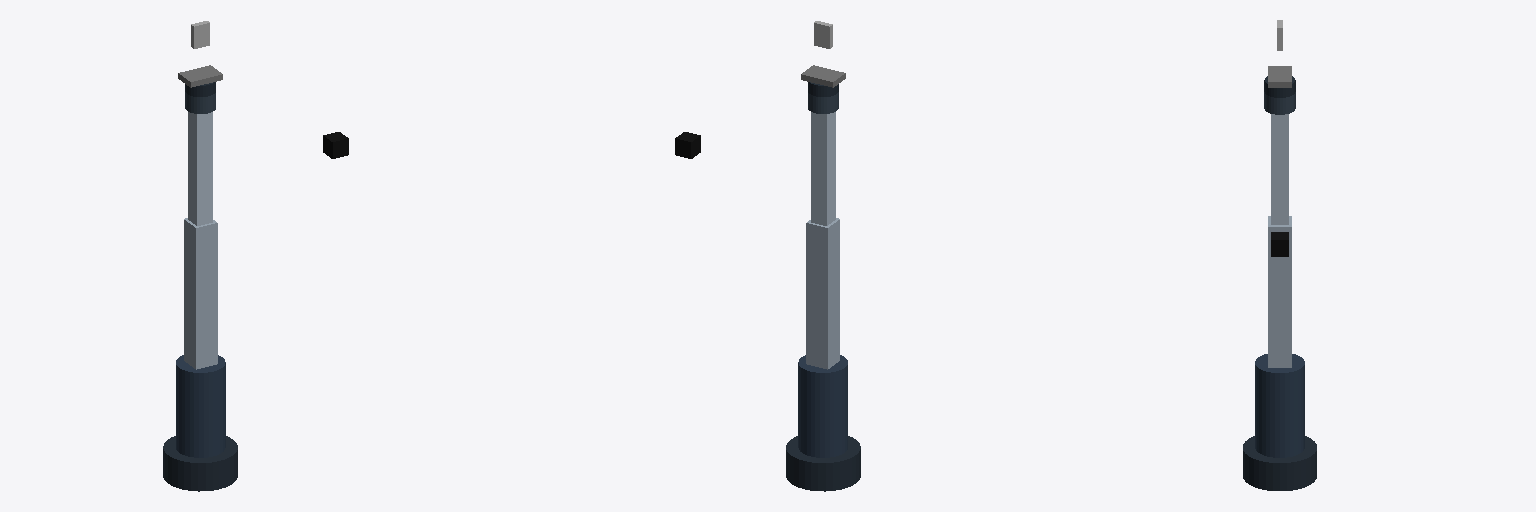
robot.urdf — robot_arm:
<?xml version="1.0" ?>
<!-- =================================================================================== -->
<!-- |    This document was autogenerated by xacro from /home/tienle/ARMROBOT/src/robot_arm/urdf/robot_arm.urdf.xacro | -->
<!-- |    EDITING THIS FILE BY HAND IS NOT RECOMMENDED                                 | -->
<!-- =================================================================================== -->
<robot name="robot_arm">
  <!-- ===================== LINKS & JOINTS ===================== -->
  <!-- World link (for fixed base) -->
  <link name="world"/>
  <!-- Base Link -->
  <joint name="world_to_base" type="fixed">
    <parent link="world"/>
    <child link="base_link"/>
    <origin rpy="0 0 0" xyz="0 0 0.025"/>
  </joint>
  <link name="base_link">
    <inertial>
      <mass value="2.0"/>
      <inertia ixx="0.0022166666666666663" ixy="0" ixz="0" iyy="0.0022166666666666663" iyz="0" izz="0.0036"/>
    </inertial>
    <visual>
      <geometry>
        <cylinder length="0.05" radius="0.06"/>
      </geometry>
      <material name="dark_slate">
        <color rgba="0.18 0.22 0.26 1.0"/>
      </material>
    </visual>
    <collision>
      <geometry>
        <cylinder length="0.05" radius="0.06"/>
      </geometry>
    </collision>
  </link>
  <!-- Link1 - Turret (rotates around Z) -->
  <joint name="joint1" type="revolute">
    <parent link="base_link"/>
    <child link="link1"/>
    <origin rpy="0 0 0" xyz="0 0 0.025"/>
    <axis xyz="0 0 1"/>
    <limit effort="50.0" lower="-3.141592653589793" upper="3.141592653589793" velocity="2.0"/>
    <dynamics damping="0.5" friction="0.1"/>
  </joint>
  <link name="link1">
    <inertial>
      <mass value="1.0"/>
      <inertia ixx="0.0022749999999999997" ixy="0" ixz="0" iyy="0.0022749999999999997" iyz="0" izz="0.0008"/>
    </inertial>
    <visual>
      <origin rpy="0 0 0" xyz="0 0 0.075"/>
      <geometry>
        <cylinder length="0.15" radius="0.04"/>
      </geometry>
      <material name="slate_grey">
        <color rgba="0.22 0.28 0.35 1.0"/>
      </material>
    </visual>
    <collision>
      <origin rpy="0 0 0" xyz="0 0 0.075"/>
      <geometry>
        <cylinder length="0.15" radius="0.04"/>
      </geometry>
    </collision>
  </link>
  <!-- Link2 - Upper arm (rotates around Y) -->
  <joint name="joint2" type="revolute">
    <parent link="link1"/>
    <child link="link2"/>
    <origin rpy="0 0 0" xyz="0 0 0.15"/>
    <axis xyz="0 1 0"/>
    <limit effort="50.0" lower="-2.5" upper="2.5" velocity="2.0"/>
    <dynamics damping="0.5" friction="0.1"/>
  </joint>
  <link name="link2">
    <inertial>
      <mass value="0.8"/>
      <inertia ixx="0.004273333333333334" ixy="0" ixz="0" iyy="0.004273333333333334" iyz="0" izz="0.00021333333333333333"/>
    </inertial>
    <visual>
      <origin rpy="0 0 0" xyz="0 0 0.125"/>
      <geometry>
        <box size="0.04 0.04 0.25"/>
      </geometry>
      <material name="metallic_silver">
        <color rgba="0.65 0.70 0.75 1.0"/>
      </material>
    </visual>
    <collision>
      <origin rpy="0 0 0" xyz="0 0 0.125"/>
      <geometry>
        <box size="0.04 0.04 0.25"/>
      </geometry>
    </collision>
  </link>
  <!-- Link3 - Forearm (rotates around Y) -->
  <joint name="joint3" type="revolute">
    <parent link="link2"/>
    <child link="link3"/>
    <origin rpy="0 0 0" xyz="0 0 0.25"/>
    <axis xyz="0 1 0"/>
    <limit effort="50.0" lower="-2.5" upper="2.5" velocity="2.0"/>
    <dynamics damping="0.3" friction="0.1"/>
  </joint>
  <link name="link3">
    <inertial>
      <mass value="0.5"/>
      <inertia ixx="0.0017041666666666668" ixy="0" ixz="0" iyy="0.0017041666666666668" iyz="0" izz="7.5e-05"/>
    </inertial>
    <visual>
      <origin rpy="0 0 0" xyz="0 0 0.1"/>
      <geometry>
        <box size="0.03 0.03 0.2"/>
      </geometry>
      <material name="aluminum">
        <color rgba="0.70 0.75 0.80 1.0"/>
      </material>
    </visual>
    <collision>
      <origin rpy="0 0 0" xyz="0 0 0.1"/>
      <geometry>
        <box size="0.03 0.03 0.2"/>
      </geometry>
    </collision>
  </link>
  <!-- Link4 - Wrist (4th DOF: rotates around Y for wrist pitch) -->
  <joint name="joint4" type="revolute">
    <parent link="link3"/>
    <child link="link4"/>
    <origin rpy="0 0 0" xyz="0 0 0.2"/>
    <axis xyz="0 1 0"/>
    <limit effort="20.0" lower="-2.2" upper="2.2" velocity="3.0"/>
    <dynamics damping="0.2" friction="0.05"/>
  </joint>
  <link name="link4">
    <inertial>
      <mass value="0.15"/>
      <inertia ixx="3.46875e-05" ixy="0" ixz="0" iyy="3.46875e-05" iyz="0" izz="4.6875e-05"/>
    </inertial>
    <visual>
      <origin rpy="0 0 0" xyz="0 0 0.015"/>
      <geometry>
        <cylinder length="0.03" radius="0.025"/>
      </geometry>
      <material name="wrist_dark">
        <color rgba="0.25 0.30 0.35 1.0"/>
      </material>
    </visual>
    <collision>
      <origin rpy="0 0 0" xyz="0 0 0.015"/>
      <geometry>
        <cylinder length="0.03" radius="0.025"/>
      </geometry>
    </collision>
  </link>
  <joint name="joint5" type="revolute">
    <parent link="link4"/>
    <child link="link5"/>
    <origin rpy="0 0 0" xyz="0 0 0.03"/>
    <axis xyz="0 0 1"/>
    <limit effort="20.0" lower="-1.5707963267948966" upper="1.5707963267948966" velocity="3.0"/>
    <dynamics damping="0.1" friction="0.05"/>
  </joint>
  <link name="link5">
    <inertial>
      <mass value="0.1"/>
      <inertia ixx="1.8958333333333338e-05" ixy="0" ixz="0" iyy="1.8958333333333338e-05" iyz="0" izz="3.125000000000001e-05"/>
    </inertial>
    <visual>
      <origin rpy="0 0 0" xyz="0 0 0.01"/>
      <geometry>
        <cylinder length="0.02" radius="0.025"/>
      </geometry>
      <material name="flange_dark">
        <color rgba="0.18 0.22 0.26 1.0"/>
      </material>
    </visual>
    <collision>
      <origin rpy="0 0 0" xyz="0 0 0.01"/>
      <geometry>
        <cylinder length="0.02" radius="0.025"/>
      </geometry>
    </collision>
  </link>
  <joint name="end_effector_joint" type="fixed">
    <parent link="link5"/>
    <child link="end_effector_link"/>
    <origin rpy="0 0 0" xyz="0 0 0.02"/>
  </joint>
  <link name="end_effector_link"/>
  <!-- ===================== GRIPPER (Franka Hand Modern Parallel-Jaw) ===================== -->
  <!-- Gripper base (sits right at the end of the arm) -->
  <joint name="gripper_base_joint" type="fixed">
    <parent link="end_effector_link"/>
    <child link="gripper_base_link"/>
    <origin rpy="0 0 0" xyz="0 0 0"/>
  </joint>
  <link name="gripper_base_link">
    <inertial>
      <mass value="0.1"/>
      <inertia ixx="0.00015" ixy="0" ixz="0" iyy="5.9999999999999995e-05" iyz="0" izz="0.00015"/>
    </inertial>
    <visual>
      <origin rpy="0 0 0" xyz="0 0 0.005"/>
      <geometry>
        <box size="0.06 0.04 0.01"/>
      </geometry>
      <material name="grey">
        <color rgba="0.5 0.5 0.5 1.0"/>
      </material>
    </visual>
    <collision>
      <origin rpy="0 0 0" xyz="0 0 0.02"/>
      <geometry>
        <box size="0.06 0.12 0.05"/>
      </geometry>
    </collision>
  </link>
  <!-- Left finger (prismatic along Y, opens outward +Y, extends in +Z) -->
  <joint name="gripper_left_joint" type="prismatic">
    <parent link="gripper_base_link"/>
    <child link="finger_left_link"/>
    <origin rpy="0 0 0" xyz="0 0 0.0584"/>
    <axis xyz="0 1 0"/>
    <limit effort="20.0" lower="0.0" upper="0.035" velocity="0.5"/>
    <dynamics damping="0.1"/>
  </joint>
  <link name="finger_left_link">
    <inertial>
      <mass value="0.05"/>
      <inertia ixx="7.6041666666666666e-06" ixy="0" ixz="0" iyy="8.333333333333334e-06" iyz="0" izz="2.6041666666666666e-06"/>
    </inertial>
    <visual>
      <origin rpy="0 0 0" xyz="0 0 0.02"/>
      <geometry>
        <box size="0.03 0.01 0.04"/>
      </geometry>
      <material name="light_grey">
        <color rgba="0.7 0.7 0.7 1.0"/>
      </material>
    </visual>
    <collision>
      <origin rpy="0 0 0" xyz="0 0.0075 0.045"/>
      <geometry>
        <box size="0.018 0.015 0.04"/>
      </geometry>
    </collision>
  </link>
  <!-- Right finger (mimic of left, moves in -Y, extends in +Z) -->
  <joint name="gripper_right_joint" type="prismatic">
    <parent link="gripper_base_link"/>
    <child link="finger_right_link"/>
    <origin rpy="0 0 3.141592653589793" xyz="0 0 0.0584"/>
    <axis xyz="0 1 0"/>
    <limit effort="20.0" lower="0.0" upper="0.035" velocity="0.5"/>
    <mimic joint="gripper_left_joint" multiplier="1" offset="0"/>
    <dynamics damping="0.1"/>
  </joint>
  <link name="finger_right_link">
    <inertial>
      <mass value="0.05"/>
      <inertia ixx="7.6041666666666666e-06" ixy="0" ixz="0" iyy="8.333333333333334e-06" iyz="0" izz="2.6041666666666666e-06"/>
    </inertial>
    <visual>
      <origin rpy="0 0 0" xyz="0 0 0.02"/>
      <geometry>
        <box size="0.03 0.01 0.04"/>
      </geometry>
      <material name="light_grey">
        <color rgba="0.7 0.7 0.7 1.0"/>
      </material>
    </visual>
    <collision>
      <origin rpy="0 0 0" xyz="0 0.0075 0.045"/>
      <geometry>
        <box size="0.018 0.015 0.04"/>
      </geometry>
    </collision>
  </link>
  <!-- Grasp Center (virtual reference frame located at the center of the finger pads) -->
  <joint name="grasp_joint" type="fixed">
    <parent link="end_effector_link"/>
    <child link="grasp_link"/>
    <origin rpy="0 0 0" xyz="0 0 0.1034"/>
  </joint>
  <link name="grasp_link"/>
  <!-- ===================== CAMERA ===================== -->
  <!-- Camera mount (fixed overhead, looking straight down) -->
  <joint name="camera_joint" type="fixed">
    <parent link="base_link"/>
    <child link="camera_link"/>
    <origin rpy="0 1.5707963267948966 0" xyz="0.25 0.0 0.50"/>
  </joint>
  <link name="camera_link">
    <inertial>
      <mass value="0.05"/>
      <inertia ixx="7.499999999999999e-06" ixy="0" ixz="0" iyy="7.499999999999999e-06" iyz="0" izz="7.499999999999999e-06"/>
    </inertial>
    <visual>
      <geometry>
        <box size="0.03 0.03 0.03"/>
      </geometry>
      <material name="black">
        <color rgba="0.1 0.1 0.1 1.0"/>
      </material>
    </visual>
    <collision>
      <geometry>
        <box size="0.03 0.03 0.03"/>
      </geometry>
    </collision>
  </link>
  <!-- Camera optical frame (Z forward, X right, Y down) -->
  <joint name="camera_optical_joint" type="fixed">
    <parent link="camera_link"/>
    <child link="camera_optical_link"/>
    <origin rpy="-1.5707963267948966 0 -1.5707963267948966" xyz="0 0 0"/>
  </joint>
  <link name="camera_optical_link"/>
  <!-- ===================== ros2_control HARDWARE INTERFACE ===================== -->
  <ros2_control name="GazeboSimSystem" type="system">
    <hardware>
      <plugin>gz_ros2_control/GazeboSimSystem</plugin>
    </hardware>
    <!-- Joint 1 - Base rotation -->
    <joint name="joint1">
      <command_interface name="position">
        <param name="min">-3.14159</param>
        <param name="max">3.14159</param>
      </command_interface>
      <state_interface name="position"/>
      <state_interface name="velocity"/>
    </joint>
    <!-- Joint 2 - Shoulder -->
    <joint name="joint2">
      <command_interface name="position">
        <param name="min">-2.5</param>
        <param name="max">2.5</param>
      </command_interface>
      <state_interface name="position"/>
      <state_interface name="velocity"/>
    </joint>
    <!-- Joint 3 - Elbow -->
    <joint name="joint3">
      <command_interface name="position">
        <param name="min">-2.5</param>
        <param name="max">2.5</param>
      </command_interface>
      <state_interface name="position"/>
      <state_interface name="velocity"/>
    </joint>
    <!-- Joint 4 - Wrist Pitch (4th DOF) -->
    <joint name="joint4">
      <command_interface name="position">
        <param name="min">-2.2</param>
        <param name="max">2.2</param>
      </command_interface>
      <state_interface name="position"/>
      <state_interface name="velocity"/>
    </joint>
    <!-- Joint 5 - Wrist Roll (5th DOF) -->
    <joint name="joint5">
      <command_interface name="position">
        <param name="min">-1.5708</param>
        <param name="max">1.5708</param>
      </command_interface>
      <state_interface name="position"/>
      <state_interface name="velocity"/>
    </joint>
    <!-- Gripper - Left finger -->
    <joint name="gripper_left_joint">
      <command_interface name="position">
        <param name="min">0.0</param>
        <param name="max">0.035</param>
      </command_interface>
      <state_interface name="position"/>
      <state_interface name="velocity"/>
    </joint>
    <!-- Gripper - Right finger (mimics left finger in opposite direction) -->
    <joint name="gripper_right_joint">
      <param name="mimic">gripper_left_joint</param>
      <param name="multiplier">1</param>
      <state_interface name="position"/>
      <state_interface name="velocity"/>
    </joint>
  </ros2_control>
  <!-- ===================== GAZEBO PLUGIN: ros2_control ===================== -->
  <gazebo>
    <plugin filename="gz_ros2_control-system" name="gz_ros2_control::GazeboSimROS2ControlPlugin">
      <parameters>/home/tienle/ARMROBOT/install/robot_arm/share/robot_arm/config/controllers_5dof.yaml</parameters>
    </plugin>
  </gazebo>
  <!-- ===================== GAZEBO COLORS (Modern Industrial Robotic Finish) ===================== -->
  <gazebo reference="base_link">
    <material>
      <ambient>0.18 0.22 0.26 1</ambient>
      <diffuse>0.18 0.22 0.26 1</diffuse>
      <specular>0.4 0.4 0.4 1</specular>
    </material>
  </gazebo>
  <gazebo reference="link1">
    <material>
      <ambient>0.22 0.28 0.35 1</ambient>
      <diffuse>0.22 0.28 0.35 1</diffuse>
      <specular>0.3 0.3 0.3 1</specular>
    </material>
  </gazebo>
  <gazebo reference="link2">
    <material>
      <ambient>0.65 0.70 0.75 1</ambient>
      <diffuse>0.65 0.70 0.75 1</diffuse>
      <specular>0.5 0.5 0.5 1</specular>
    </material>
  </gazebo>
  <gazebo reference="link3">
    <material>
      <ambient>0.70 0.75 0.80 1</ambient>
      <diffuse>0.70 0.75 0.80 1</diffuse>
      <specular>0.5 0.5 0.5 1</specular>
    </material>
  </gazebo>
  <!-- Link4 - Wrist Pitch -->
  <gazebo reference="link4">
    <material>
      <ambient>0.25 0.30 0.35 1</ambient>
      <diffuse>0.25 0.30 0.35 1</diffuse>
      <specular>0.3 0.3 0.3 1</specular>
    </material>
  </gazebo>
  <!-- Link5 - Wrist Roll -->
  <gazebo reference="link5">
    <material>
      <ambient>0.18 0.22 0.26 1</ambient>
      <diffuse>0.18 0.22 0.26 1</diffuse>
      <specular>0.4 0.4 0.4 1</specular>
    </material>
  </gazebo>
  <!-- Franka Hand (Clean Industrial White) -->
  <gazebo reference="gripper_base_link">
    <material>
      <ambient>0.92 0.92 0.94 1</ambient>
      <diffuse>0.92 0.92 0.94 1</diffuse>
      <specular>0.6 0.6 0.6 1</specular>
    </material>
  </gazebo>
  <!-- Franka Left Finger -->
  <gazebo reference="finger_left_link">
    <mu1>100.0</mu1>
    <mu2>100.0</mu2>
    <kp>1000000.0</kp>
    <kd>1.0</kd>
    <minDepth>0.001</minDepth>
    <maxVel>0.0</maxVel>
    <material>
      <ambient>0.18 0.45 0.78 1</ambient>
      <diffuse>0.18 0.45 0.78 1</diffuse>
      <specular>0.5 0.5 0.5 1</specular>
    </material>
  </gazebo>
  <!-- Franka Right Finger -->
  <gazebo reference="finger_right_link">
    <mu1>100.0</mu1>
    <mu2>100.0</mu2>
    <kp>1000000.0</kp>
    <kd>1.0</kd>
    <minDepth>0.001</minDepth>
    <maxVel>0.0</maxVel>
    <material>
      <ambient>0.18 0.45 0.78 1</ambient>
      <diffuse>0.18 0.45 0.78 1</diffuse>
      <specular>0.5 0.5 0.5 1</specular>
    </material>
  </gazebo>
  <gazebo reference="camera_link">
    <material>
      <ambient>0.1 0.1 0.1 1</ambient>
      <diffuse>0.1 0.1 0.1 1</diffuse>
    </material>
  </gazebo>
  <!-- ===================== GAZEBO SENSOR: RGBD CAMERA ===================== -->
  <gazebo reference="camera_link">
    <sensor name="rgbd_camera" type="rgbd_camera">
      <camera>
        <horizontal_fov>1.047</horizontal_fov>
        <image>
          <width>640</width>
          <height>480</height>
          <format>R8G8B8</format>
        </image>
        <clip>
          <near>0.05</near>
          <far>3.0</far>
        </clip>
        <depth_camera>
          <clip>
            <near>0.05</near>
            <far>3.0</far>
          </clip>
        </depth_camera>
      </camera>
      <always_on>1</always_on>
      <update_rate>15</update_rate>
      <visualize>true</visualize>
      <topic>camera</topic>
      <gz_frame_id>camera_link</gz_frame_id>
    </sensor>
  </gazebo>
</robot>

--- What the picture shows (computed from the rendered views, not written in the file) ---
3 views of the same robot in one strip: view 1: azimuth 30°, elevation 25°; view 2: azimuth 150°, elevation 25°; view 3: azimuth 270°, elevation 25° (orthographic).
Robot: robot_arm — 14 links, 13 joints (5 revolute, 2 prismatic, 6 fixed); root link world; default pose: all joints at 0.
Visible links, largest first — view 1: link2, link1, base_link, link3, gripper_base_link, camera_link, link4; view 2: link2, link1, base_link, link3, gripper_base_link, camera_link, link4; view 3: link1, link2, base_link, link3, link4, gripper_base_link.
Boxes of the visible links, left/top/right/bottom form: link2: left=184, top=218, right=217, bottom=369; link1: left=176, top=355, right=225, bottom=457; base_link: left=163, top=436, right=237, bottom=491; link3: left=188, top=112, right=212, bottom=225; gripper_base_link: left=178, top=65, right=222, bottom=87; camera_link: left=323, top=132, right=348, bottom=158; link4: left=185, top=92, right=215, bottom=113; link2: left=806, top=218, right=839, bottom=369; link1: left=798, top=355, right=847, bottom=457; base_link: left=786, top=436, right=860, bottom=491; link3: left=811, top=112, right=835, bottom=225; gripper_base_link: left=801, top=65, right=845, bottom=87; camera_link: left=675, top=132, right=700, bottom=158; link4: left=808, top=92, right=838, bottom=113; link1: left=1255, top=354, right=1304, bottom=457; link2: left=1268, top=216, right=1291, bottom=367; base_link: left=1243, top=436, right=1316, bottom=490; link3: left=1271, top=114, right=1288, bottom=224; link4: left=1264, top=92, right=1295, bottom=114; gripper_base_link: left=1268, top=66, right=1291, bottom=87.
Bounding box of the posed robot: 0.325 × 0.12 × 0.7984 m (x, y, z).
Geometry: primitives only (box / cylinder / sphere), no mesh files.
